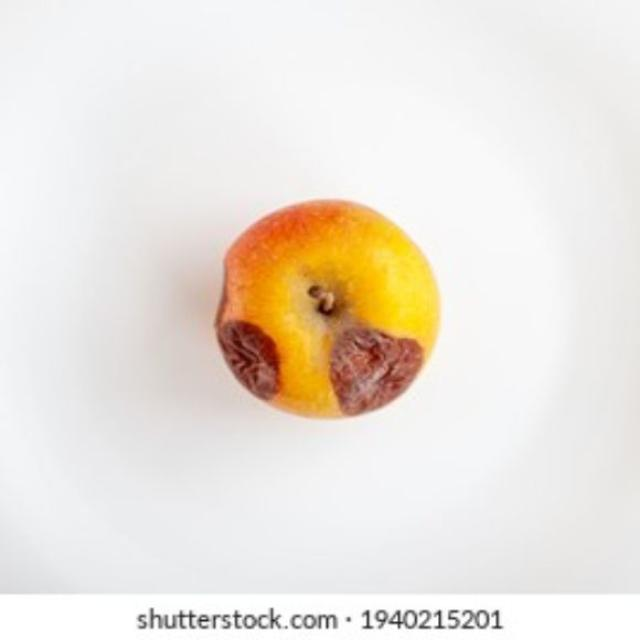Rotten Apple: (185, 188, 471, 433)
